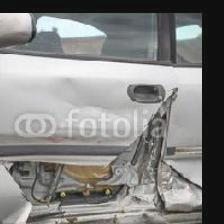door_dent: (0, 92, 187, 223)
